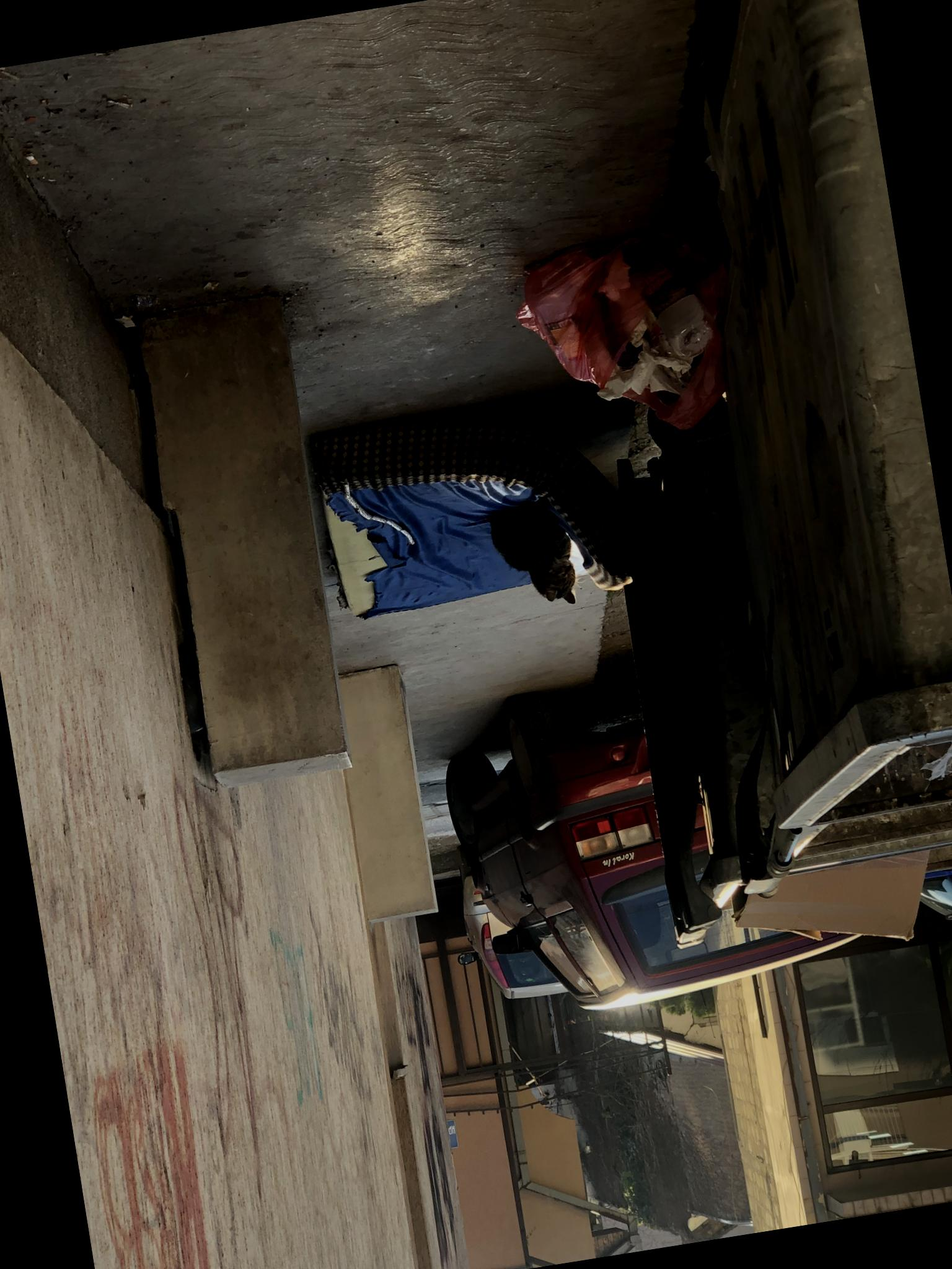macka: (487, 498, 580, 616)
